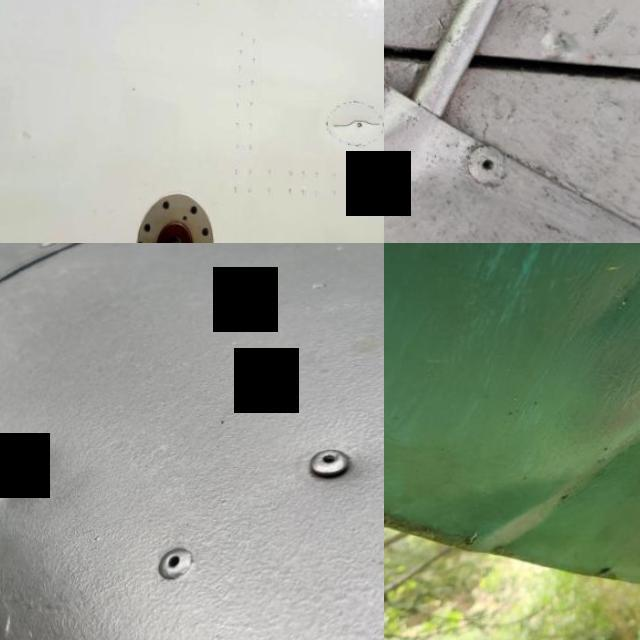Crack: (384, 63, 403, 149), (330, 116, 380, 130)
Dent: (433, 367, 640, 586), (558, 243, 640, 362), (0, 417, 84, 532)
